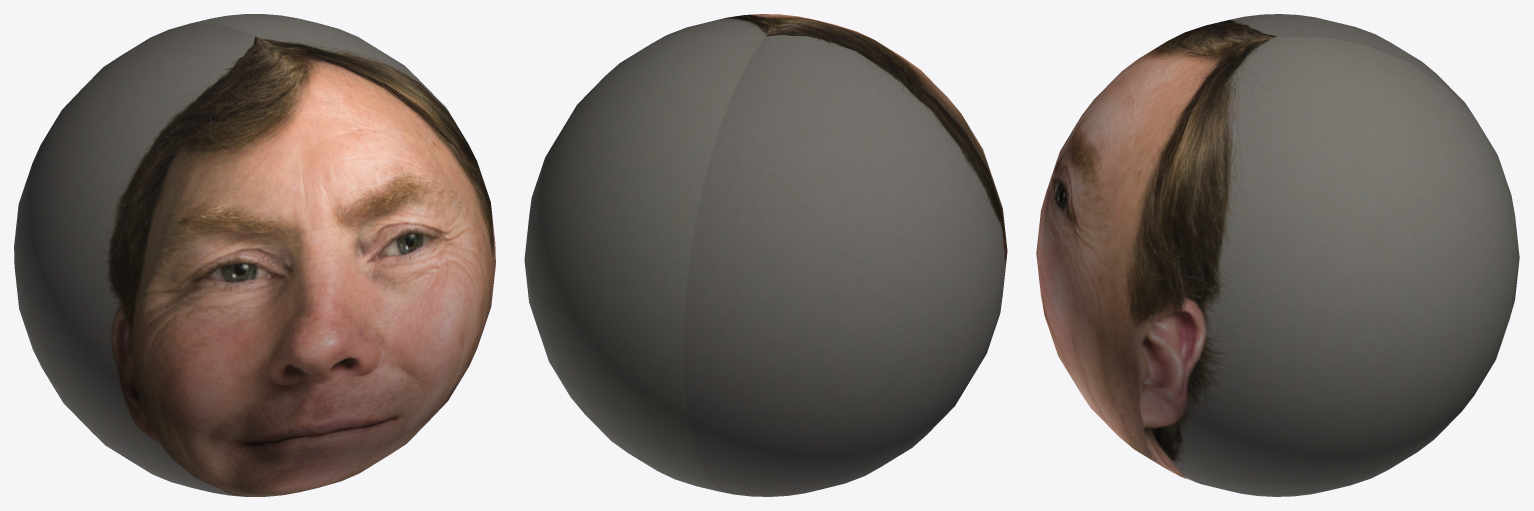
File: bird.glb
3 renders of one model, left to right at view 1: azimuth 30°, elevation 25°; view 2: azimuth 150°, elevation 25°; view 3: azimuth 270°, elevation 25°, orthographic.
Parts seen in each view (by area): view 1: Sphere; view 2: Sphere; view 3: Sphere.
Boxes of the visible parts, x1=… form: Sphere: x1=14, y1=14, x2=495, y2=496; Sphere: x1=524, y1=14, x2=1007, y2=496; Sphere: x1=1036, y1=14, x2=1519, y2=496.
Size of the model in its own units: 1.03 by 1.04 by 1.03.
Materials: 1 (1 with a texture image).
